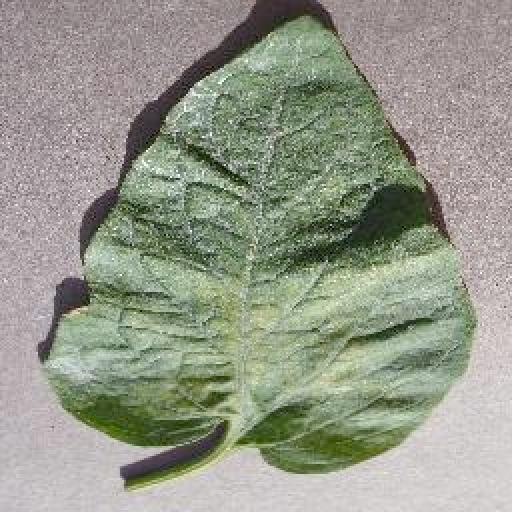disease_tomato: (44, 14, 474, 472)
